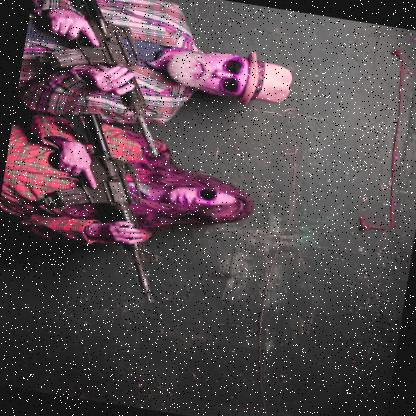rifle: (22, 105, 185, 305), (22, 0, 192, 158)
